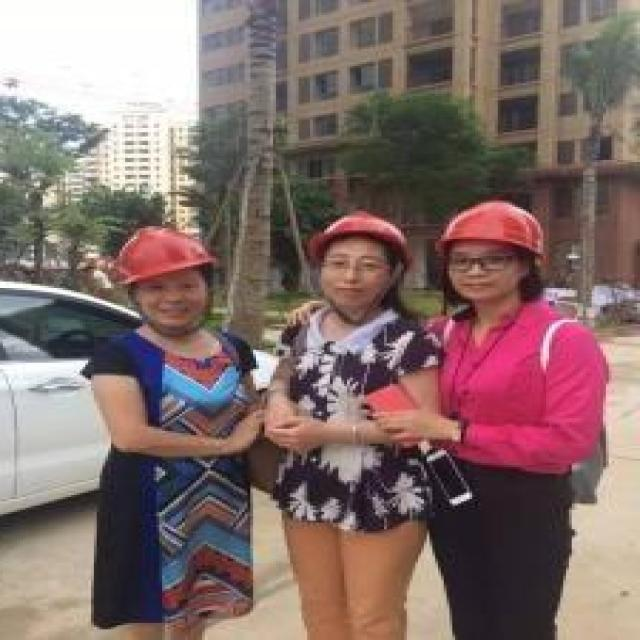helmet: (428, 196, 558, 258), (100, 223, 226, 286), (302, 209, 421, 263)
